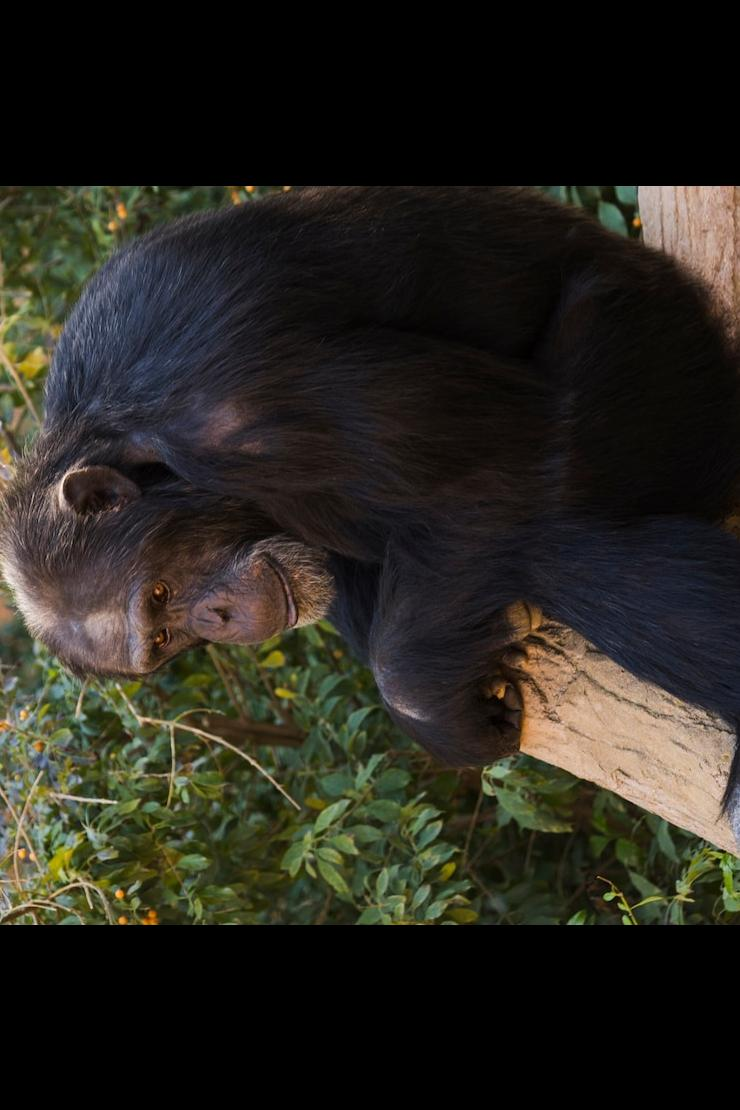gorille_Autres: (0, 185, 740, 869)
